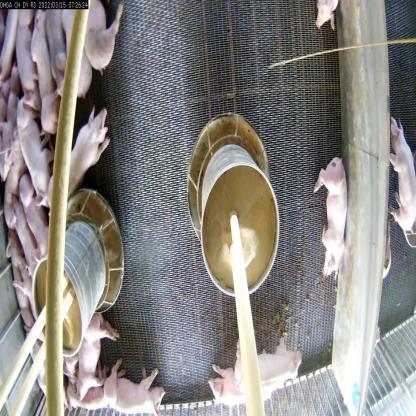Pig: (36, 108, 116, 208), (318, 143, 363, 300), (15, 12, 72, 131), (65, 303, 126, 411), (233, 334, 298, 414), (65, 0, 122, 91), (14, 82, 65, 177), (102, 363, 173, 415), (63, 372, 138, 415), (17, 183, 47, 275), (209, 368, 266, 415), (1, 241, 27, 332), (3, 209, 39, 272)
